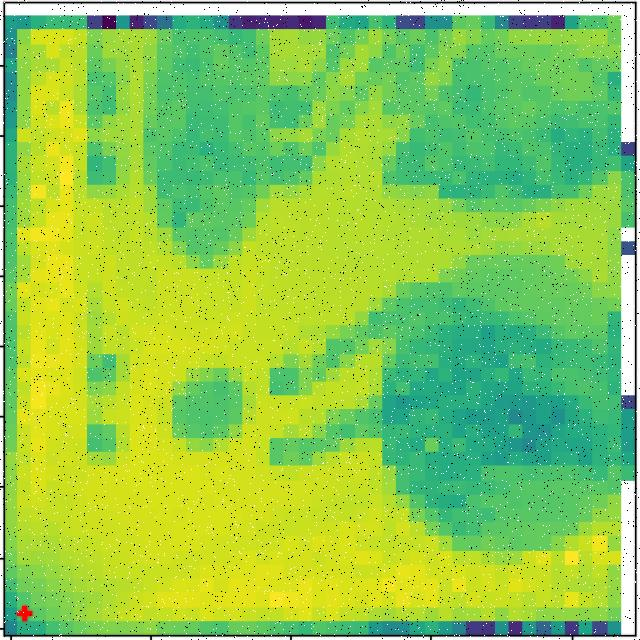Concrete: (168, 365, 246, 454)
Glass: (390, 255, 608, 547)
Metal: (147, 32, 265, 265)
Wood: (405, 44, 604, 215)
